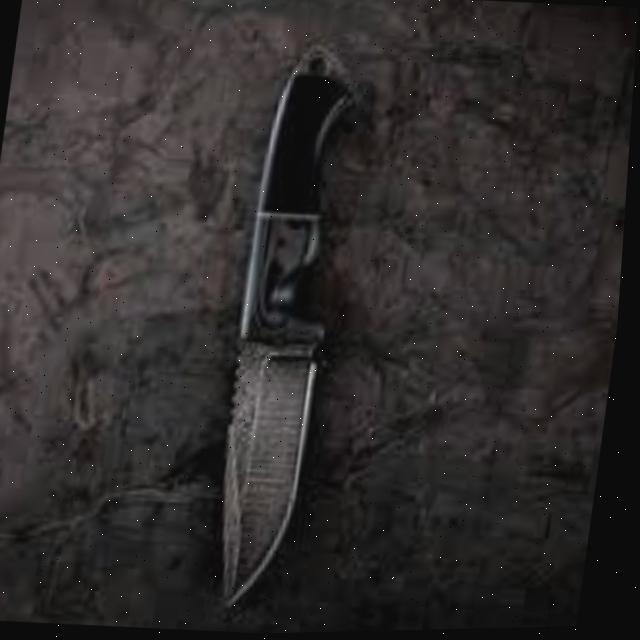Knife: (209, 42, 370, 613)
